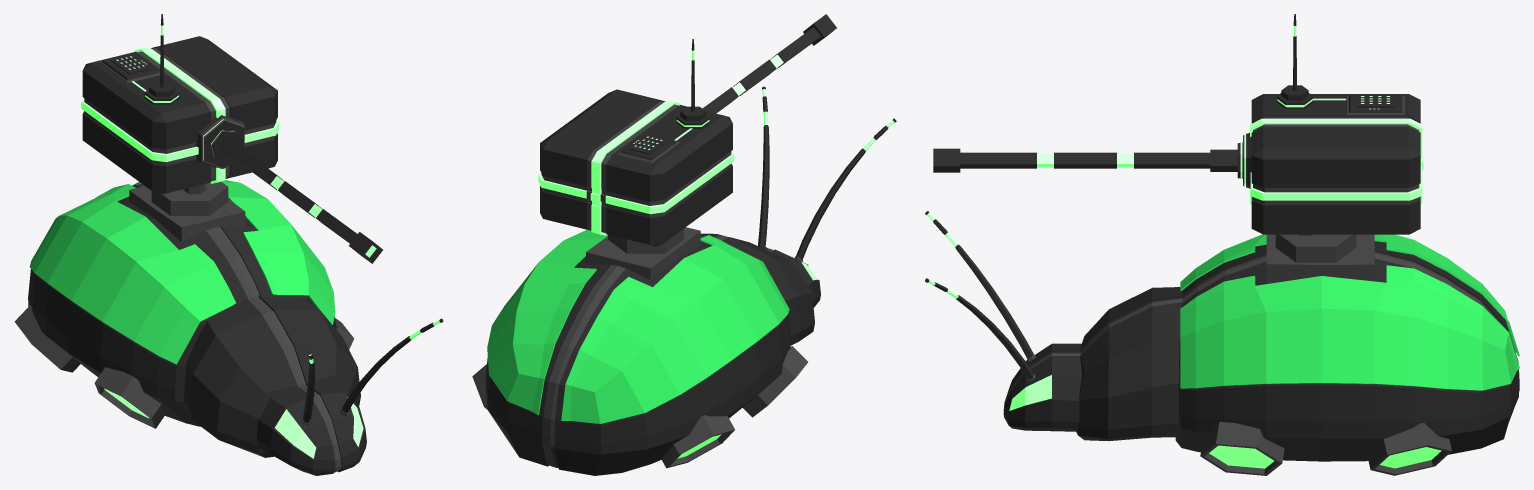
File: Bugs_2.fbx
The picture shows the model from 3 angles, left to right: view 1: azimuth 30°, elevation 25°; view 2: azimuth 150°, elevation 25°; view 3: azimuth 270°, elevation 25°; orthographic projection. The views are drawn at different scales.
Visible parts, largest first — view 1: Cube.003, Cube.004, Cube.001, Cube, Cube.002, Cylinder.001, Cube.005, Cylinder.002, Cylinder, Cylinder.004, Cube.006, Cylinder.006 (+1 smaller); view 2: Cube.003, Cube, Cube.004, Cylinder.001, Cube.001, Cylinder, Cube.005, Cube.006, Cylinder.006, Cylinder.002, Cube.002; view 3: Cube.003, Cube, Cube.004, Cube.001, Cylinder.001, Cube.002, Cube.005, Cylinder, Cylinder.002, Cube.006, Cylinder.006.
Part boxes in pixels (box(x1,y1,x2,y2)): Cube.003: box(29, 180, 335, 364); Cube.004: box(81, 36, 279, 194); Cube.001: box(184, 295, 360, 457); Cube: box(28, 183, 335, 426); Cube.002: box(256, 382, 366, 475); Cylinder.001: box(14, 305, 354, 428); Cube.005: box(217, 136, 382, 263); Cylinder.002: box(151, 181, 228, 215); Cylinder: box(302, 318, 443, 424); Cylinder.004: box(196, 115, 244, 168); Cube.006: box(99, 53, 160, 82); Cylinder.006: box(144, 14, 179, 104); Cube.003: box(487, 230, 789, 423); Cube: box(485, 227, 790, 475); Cube.004: box(538, 89, 734, 246); Cylinder.001: box(472, 346, 807, 468); Cube.001: box(700, 233, 814, 345); Cylinder: box(758, 86, 896, 261); Cube.005: box(702, 14, 836, 113); Cube.006: box(617, 133, 679, 162); Cylinder.006: box(676, 39, 710, 128); Cylinder.002: box(608, 229, 683, 253); Cube.002: box(760, 247, 820, 307); Cube.003: box(1180, 234, 1519, 390); Cube: box(1175, 234, 1519, 461); Cube.004: box(1250, 94, 1423, 234); Cube.001: box(1076, 287, 1183, 441); Cylinder.001: box(1200, 421, 1451, 475); Cube.002: box(1003, 343, 1082, 431); Cube.005: box(933, 148, 1237, 172); Cylinder: box(925, 211, 1035, 381); Cylinder.002: box(1275, 234, 1356, 262); Cube.006: box(1346, 94, 1404, 114); Cylinder.006: box(1276, 14, 1313, 108).
Bounding box in the file's own units: 206 × 303 × 406.
